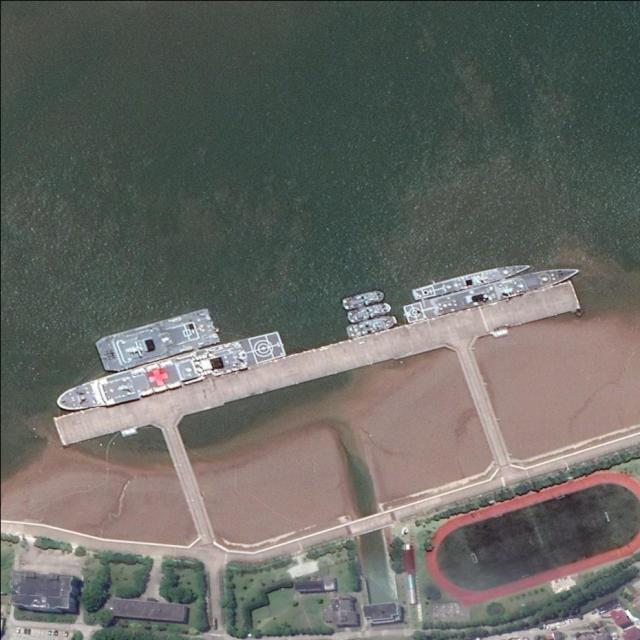Auxiliary Ships: (411, 259, 532, 302)
Other Warship: (54, 330, 287, 419), (403, 260, 582, 323), (94, 308, 220, 374), (346, 314, 398, 340), (347, 300, 392, 325), (343, 288, 387, 311)
